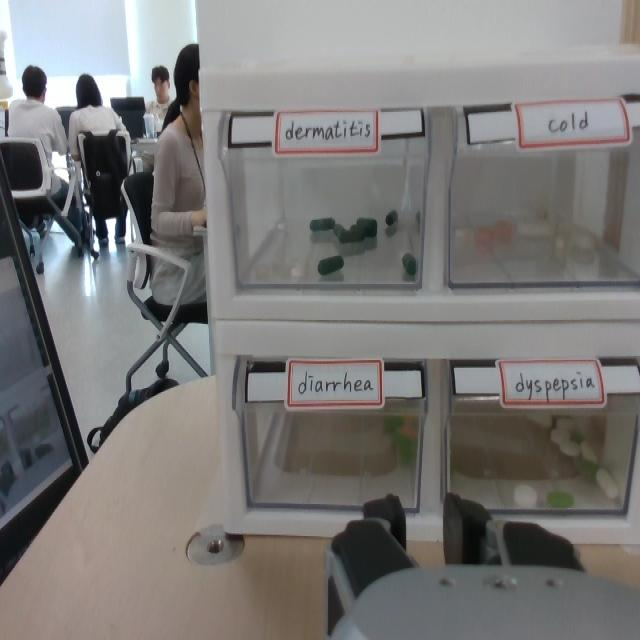text: (512, 368, 600, 398), (294, 368, 377, 399), (284, 118, 377, 144), (541, 105, 595, 138)
